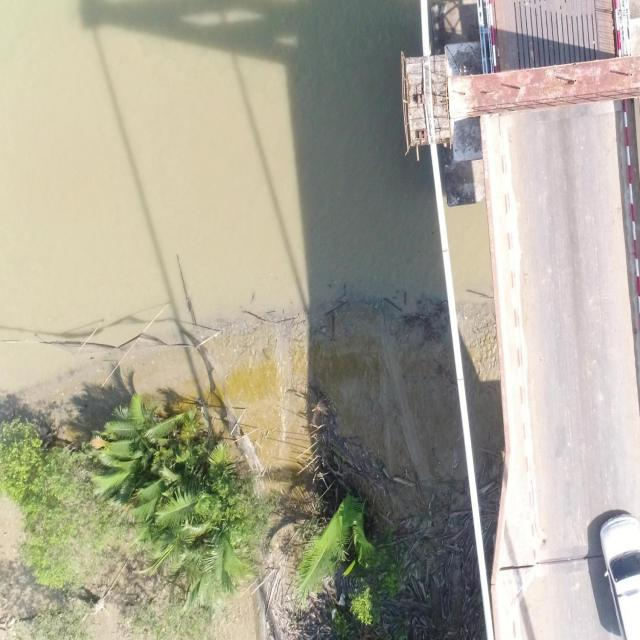crack: (456, 377, 464, 381), (442, 249, 448, 252)
